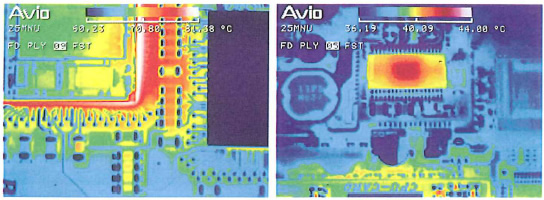componente_T: (18, 6, 194, 134), (364, 48, 451, 94), (404, 7, 435, 18)
